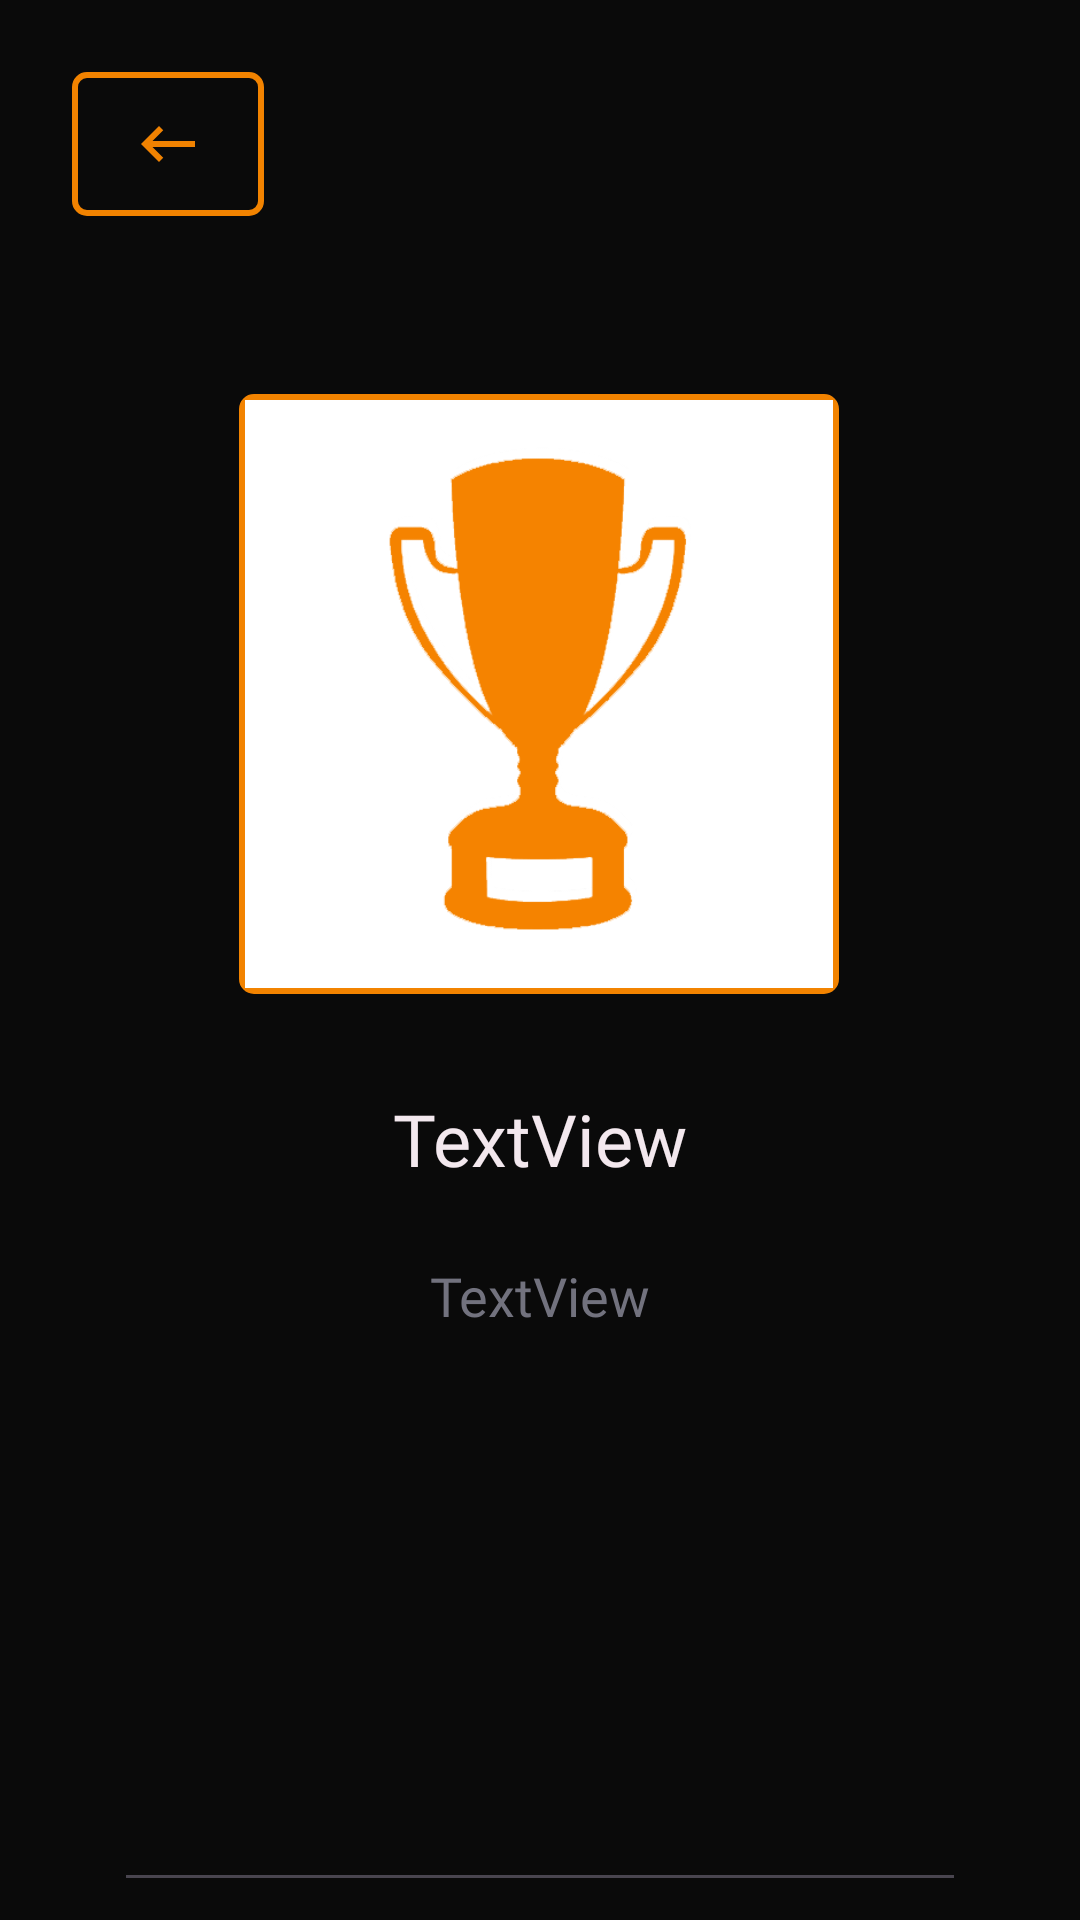

Named icons in this screenshot (1080x1920) and their bounding boxes, {"left": x1, "top": y1, "right": x2, "bottom": y2}:
keyboard backspace: {"left": 72, "top": 72, "right": 264, "bottom": 216}
